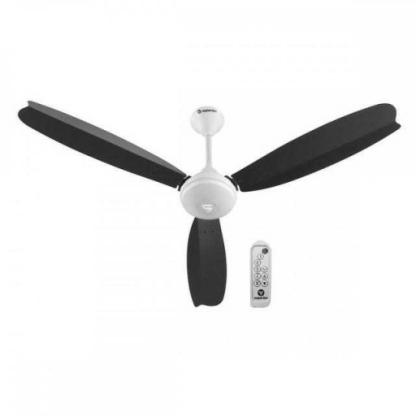ceiling-fan: (16, 99, 400, 307)
